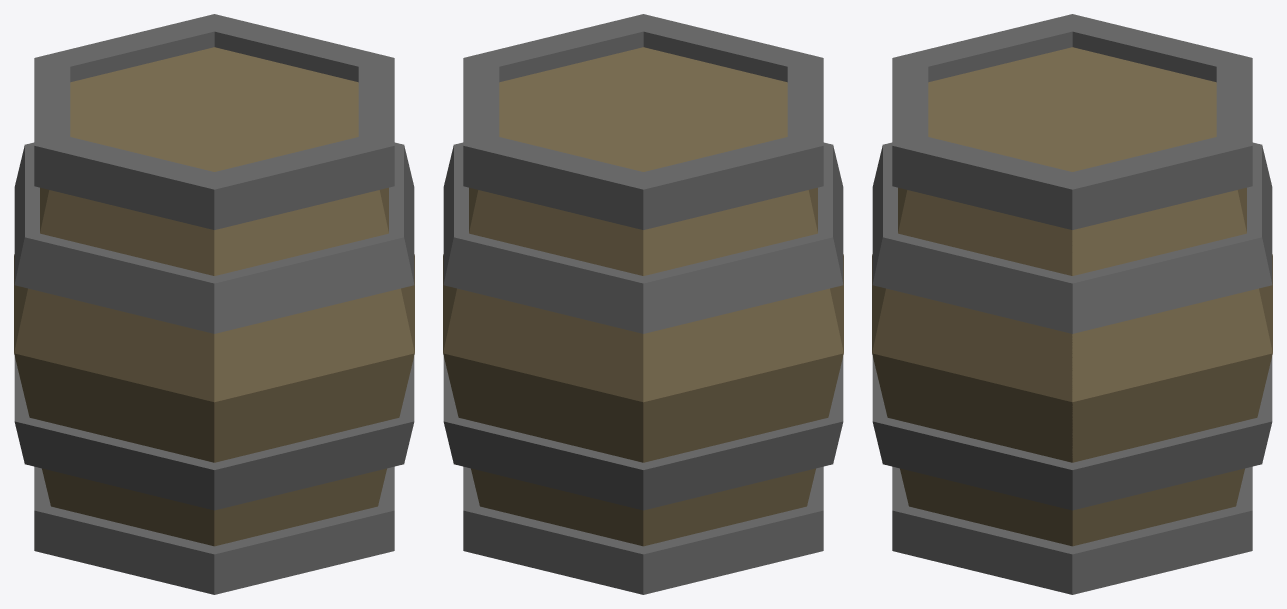
Rendered from barrel_broken.fbx.
3 renders of one model, left to right at view 1: azimuth 30°, elevation 25°; view 2: azimuth 150°, elevation 25°; view 3: azimuth 270°, elevation 25°, orthographic.
Visible parts, largest first — view 1: lid_top, bot_ring, top_plank_small, top_ring, lid_bottom, bot_plank_big; view 2: lid_top, top_ring, bot_ring, top_plank_big, lid_bottom, bot_plank_small; view 3: lid_top, top_plank_big, bot_plank_big, top_ring, bot_ring, lid_bottom, top_plank_small.
Part boxes in pixels (box(x1,y1,x2,y2)): lid_top: box(34, 14, 394, 229); bot_ring: box(14, 190, 414, 546); top_plank_small: box(214, 190, 414, 546); top_ring: box(14, 142, 414, 352); lid_bottom: box(34, 466, 394, 594); bot_plank_big: box(379, 187, 414, 352); lid_top: box(463, 14, 823, 229); top_ring: box(443, 142, 843, 402); bot_ring: box(443, 187, 843, 546); top_plank_big: box(443, 187, 643, 401); lid_bottom: box(463, 466, 823, 594); bot_plank_small: box(643, 353, 843, 546); lid_top: box(892, 14, 1252, 229); top_plank_big: box(1072, 187, 1272, 546); bot_plank_big: box(872, 190, 1072, 546); top_ring: box(872, 142, 1272, 333); bot_ring: box(872, 356, 1272, 510); lid_bottom: box(892, 466, 1252, 594); top_plank_small: box(872, 187, 907, 352).
Size of the model in its own units: 115 by 111 by 99.35.
